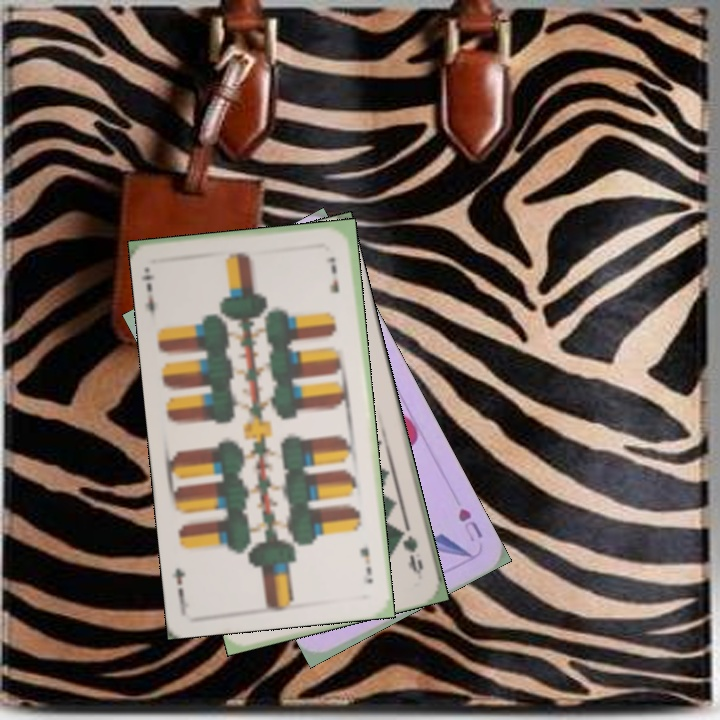E7: (138, 271, 158, 323), (355, 543, 376, 586)
G9: (395, 522, 426, 580)
HU: (453, 504, 486, 545)
